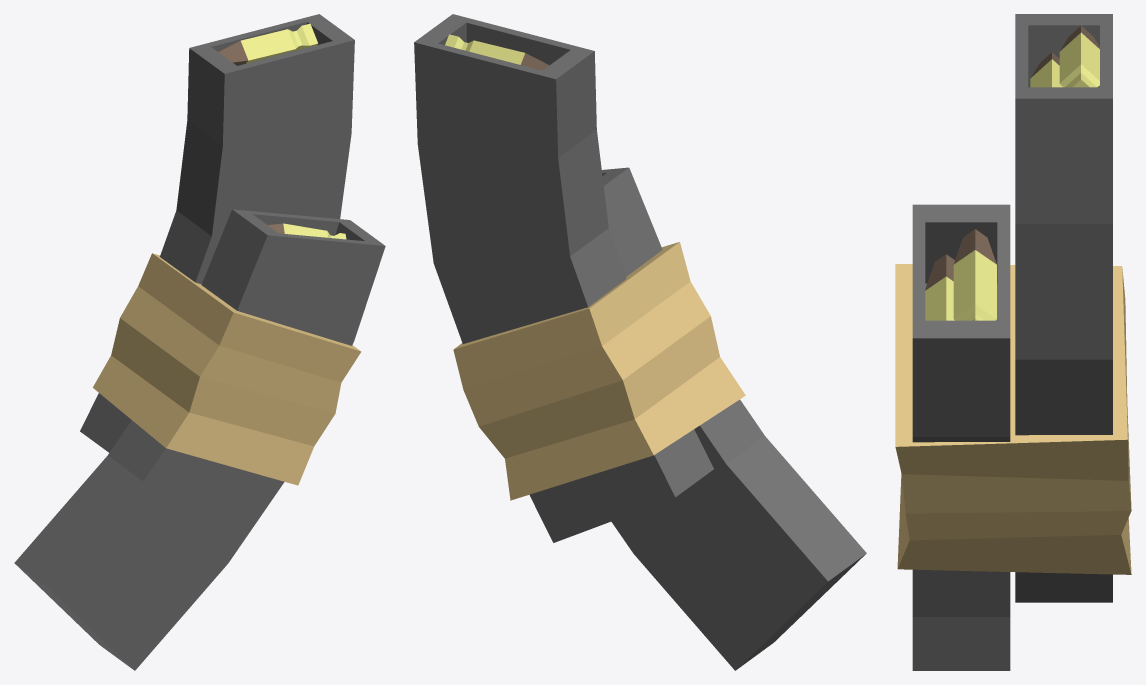
The model's file is ExtendedMagazine.fbx.
3 renders of one model, left to right at view 1: azimuth 30°, elevation 25°; view 2: azimuth 150°, elevation 25°; view 3: azimuth 270°, elevation 25°, orthographic. The views are drawn at different scales.
Visible parts, largest first — view 1: Cube; view 2: Cube; view 3: Cube.
Part boxes in pixels (x1,y1,x2,y2): Cube: (14,14,385,670); Cube: (414,14,866,670); Cube: (895,14,1131,670).
Bounding box in the file's own units: 104 × 158 × 45.04.
